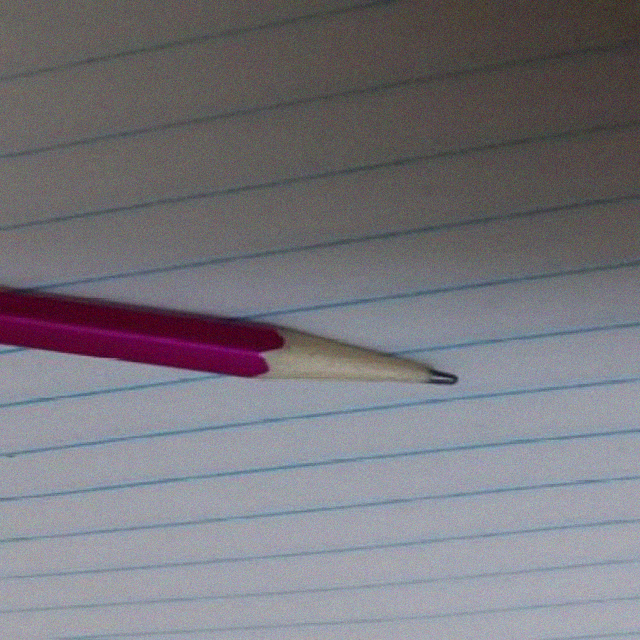pencil: (241, 336, 456, 397)
